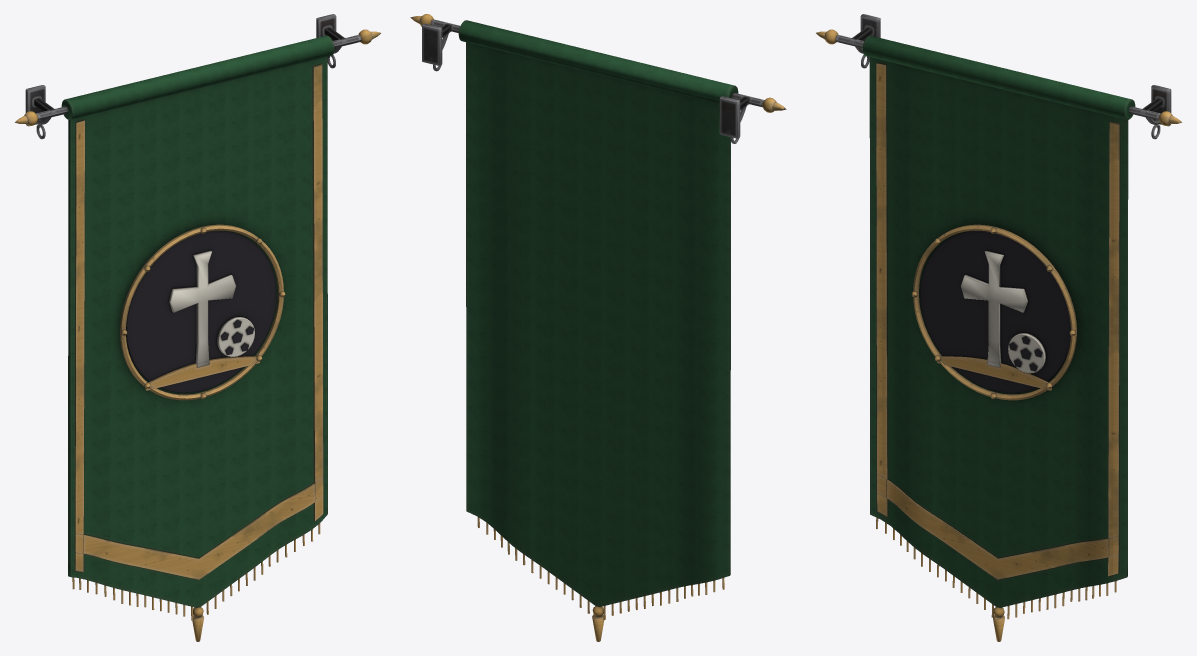
File: BannerRovers.fbx
3 renders of one model, left to right at view 1: azimuth 30°, elevation 25°; view 2: azimuth 150°, elevation 25°; view 3: azimuth 330°, elevation 25°, orthographic. The views are drawn at different scales.
Parts seen in each view (by area): view 1: BannerRovers_Cloth, BannerRovers_Main; view 2: BannerRovers_Cloth, BannerRovers_Main; view 3: BannerRovers_Cloth, BannerRovers_Main.
Boxes of the visible parts, left/top/right/bottom form: BannerRovers_Cloth: left=61, top=35, right=334, bottom=641; BannerRovers_Main: left=15, top=14, right=380, bottom=139; BannerRovers_Cloth: left=458, top=20, right=738, bottom=641; BannerRovers_Main: left=410, top=14, right=786, bottom=143; BannerRovers_Cloth: left=862, top=35, right=1135, bottom=641; BannerRovers_Main: left=816, top=14, right=1181, bottom=139.
Bounding box in the file's own units: 399 × 600 × 47.5.
